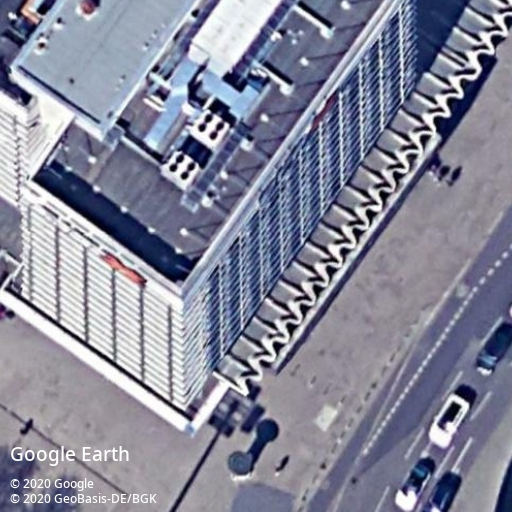Chiller: (189, 109, 231, 148), (164, 150, 201, 186)
